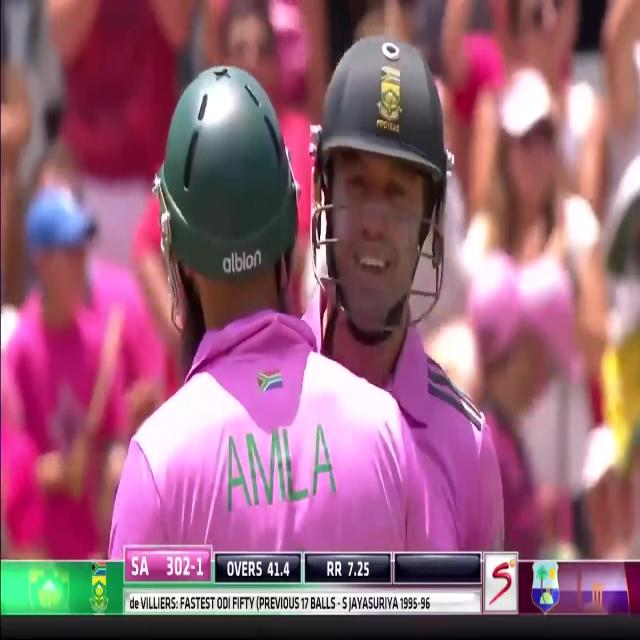Ball: (101, 57, 423, 556), (308, 34, 514, 556)
